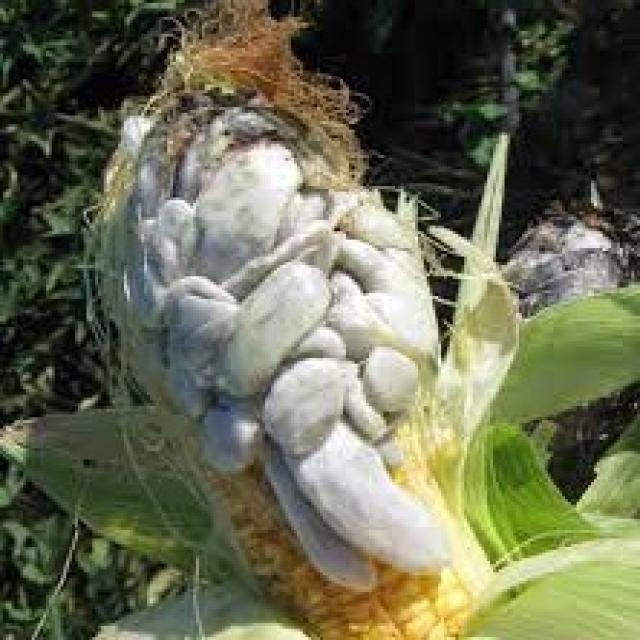Leaf_Scald: (8, 29, 567, 635)
